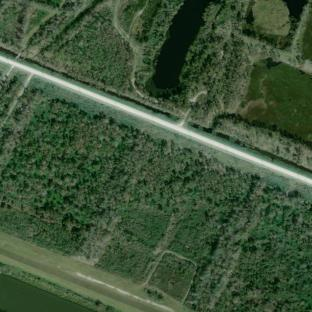Floresta: (0, 86, 312, 312), (132, 0, 253, 124)
